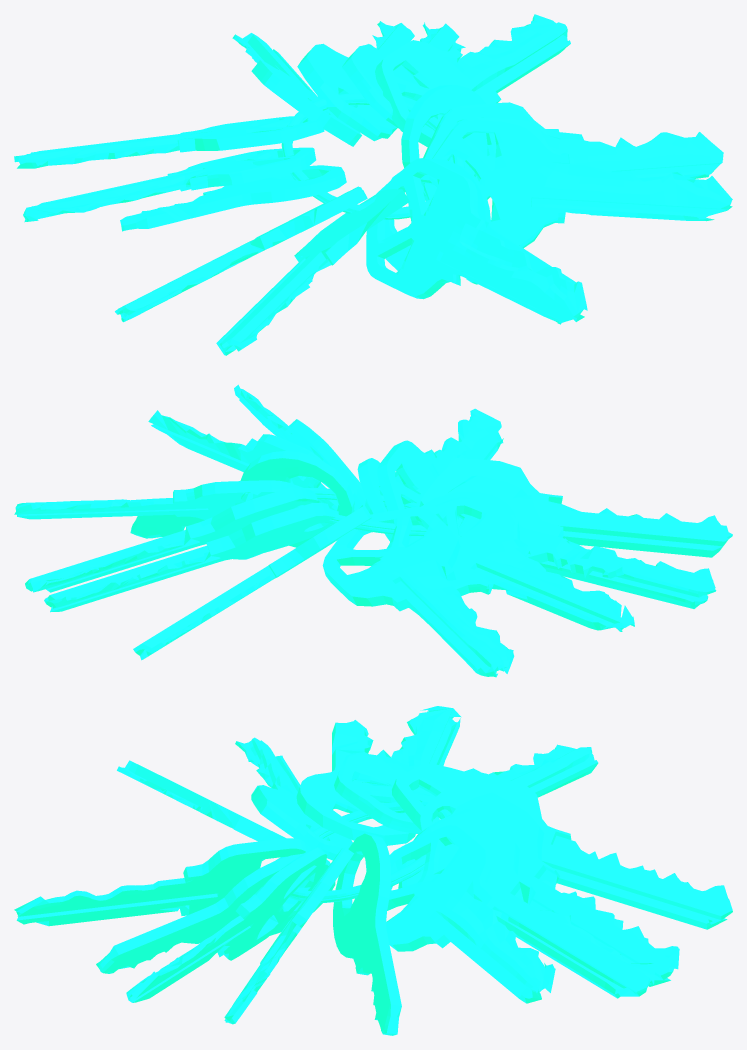
The picture shows the model from 3 angles, top to bottom: view 1: azimuth 30°, elevation 25°; view 2: azimuth 150°, elevation 25°; view 3: azimuth 270°, elevation 25°; orthographic projection. The views are drawn at different scales.
Visible parts, largest first — view 1: Object_11.002; view 2: Object_11.002; view 3: Object_11.002.
Boxes of the visible parts, left/top/right/bottom form: Object_11.002: left=14, top=14, right=732, bottom=355; Object_11.002: left=14, top=384, right=732, bottom=677; Object_11.002: left=14, top=706, right=732, bottom=1035.
Bounding box in the file's own units: 12.97 × 2.92 × 13.1.
